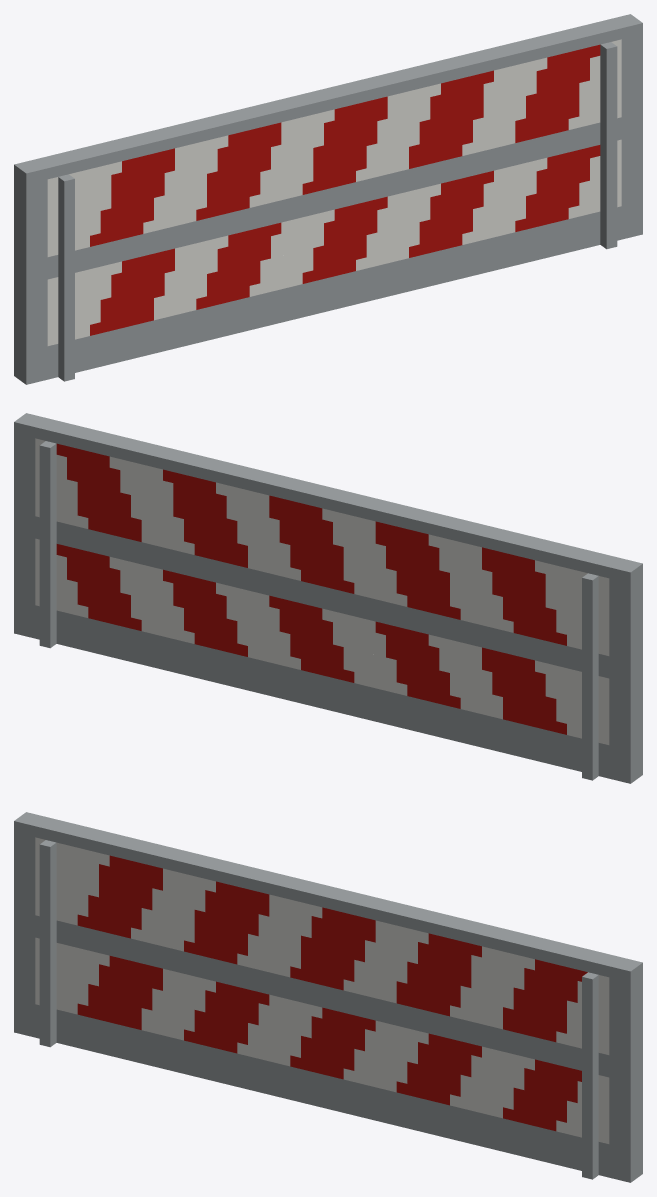
The model's file is checkpoint_barrier_trailer_barrier.glb.
The picture shows the model from 3 angles, top to bottom: view 1: azimuth 30°, elevation 25°; view 2: azimuth 150°, elevation 25°; view 3: azimuth 330°, elevation 25°; orthographic projection.
Parts seen in each view (by area): view 1: body:compound; view 2: body:compound; view 3: body:compound.
Boxes of the visible parts, x1=… form: body:compound: x1=14, y1=14, x2=642, y2=384; body:compound: x1=14, y1=413, x2=642, y2=783; body:compound: x1=14, y1=812, x2=642, y2=1182.
Size of the model in its own units: 1.81 by 0.5938 by 0.125.
